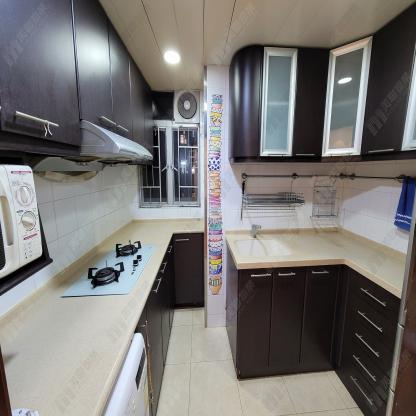Cupboard: (226, 1, 416, 162), (225, 245, 400, 416), (137, 233, 204, 416)
Exhaust Fan: (174, 89, 199, 124), (247, 223, 264, 239)
Exhaust Hood: (33, 119, 154, 174)
Microwave: (0, 162, 43, 283)
Sink: (232, 237, 293, 260)
Stove: (60, 239, 158, 299)
Washing Machine: (102, 326, 152, 416)
